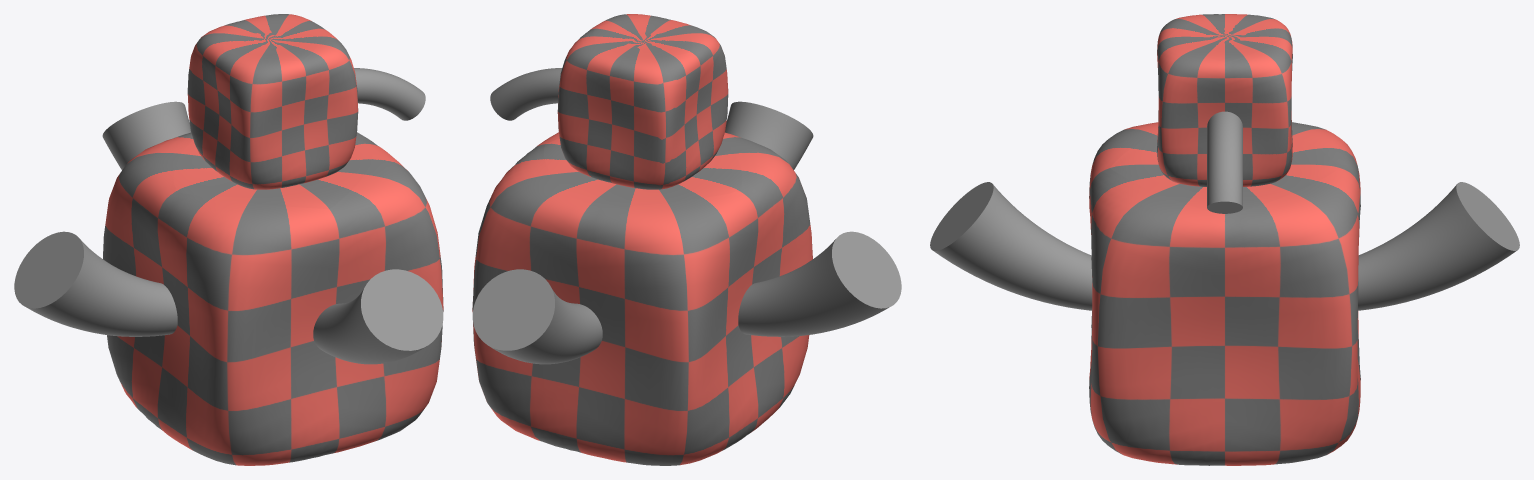
The picture shows the model from 3 angles, left to right: view 1: azimuth 30°, elevation 25°; view 2: azimuth 150°, elevation 25°; view 3: azimuth 270°, elevation 25°; orthographic projection.
Visible parts, largest first — view 1: Box001, Box002, Cone004, Cone002, Cone003, Cone001; view 2: Box001, Box002, Cone004, Cone003, Cone002, Cone001; view 3: Box001, Box002, Cone002, Cone003, Cone001.
Boxes of the visible parts, bbox=[...] form: Box001: bbox=[103, 132, 443, 465]; Box002: bbox=[187, 14, 358, 189]; Cone004: bbox=[14, 231, 177, 336]; Cone002: bbox=[313, 269, 443, 364]; Cone003: bbox=[102, 101, 190, 169]; Cone001: bbox=[354, 68, 425, 120]; Box001: bbox=[472, 132, 812, 465]; Box002: bbox=[557, 14, 728, 189]; Cone004: bbox=[738, 231, 901, 336]; Cone003: bbox=[472, 269, 602, 364]; Cone002: bbox=[725, 101, 813, 169]; Cone001: bbox=[490, 68, 562, 120]; Box001: bbox=[1089, 122, 1360, 465]; Box002: bbox=[1157, 14, 1292, 186]; Cone002: bbox=[930, 182, 1092, 310]; Cone003: bbox=[1358, 182, 1519, 310]; Cone001: bbox=[1207, 111, 1242, 213].
Size of the model in its own units: 52.34 by 47.15 by 65.56.
Materials: 2 (1 with a texture image).
